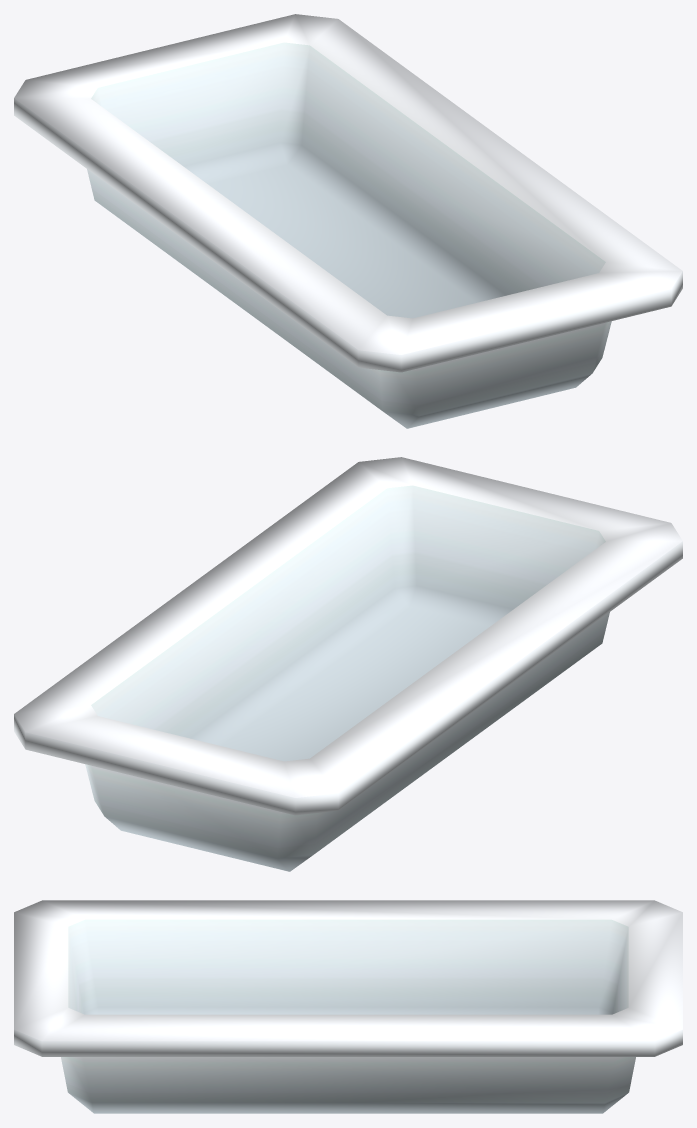
Rendered from Box_Plastic_White_Small_001.gltf.
3 views of the same model, one above another, from view 1: azimuth 30°, elevation 25°; view 2: azimuth 150°, elevation 25°; view 3: azimuth 270°, elevation 25° (orthographic). The views are drawn at different scales.
Visible parts, largest first — view 1: Box_Plastic_White_Small_001_x; view 2: Box_Plastic_White_Small_001_x; view 3: Box_Plastic_White_Small_001_x.
Part boxes in pixels (bbox=[...]): Box_Plastic_White_Small_001_x: bbox=[14, 14, 682, 428]; Box_Plastic_White_Small_001_x: bbox=[14, 457, 682, 871]; Box_Plastic_White_Small_001_x: bbox=[14, 900, 682, 1113].
Bounding box in the file's own units: 0.9973 × 0.3615 × 2.
1 material, 1 textured.
